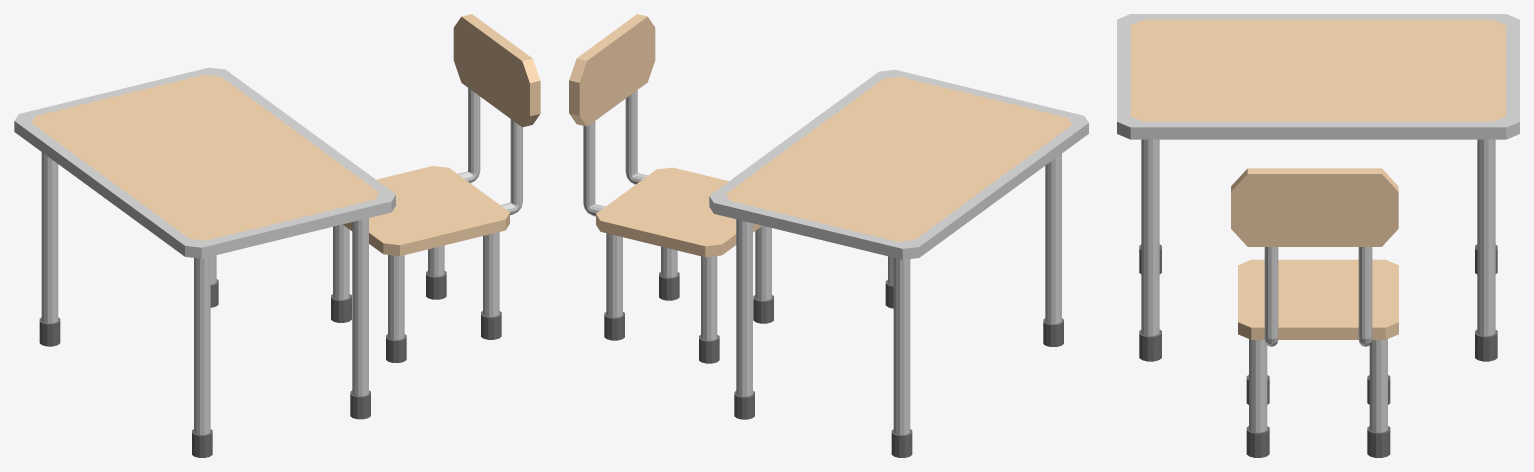
Rendered from classDesk.fbx.
3 renders of one model, left to right at view 1: azimuth 30°, elevation 25°; view 2: azimuth 150°, elevation 25°; view 3: azimuth 270°, elevation 25°, orthographic. The views are drawn at different scales.
Visible parts, largest first — view 1: classDesk, classChair; view 2: classDesk, classChair; view 3: classDesk, classChair.
Boxes of the visible parts, x1,y1,x2,y2 form: classDesk: (14, 67, 395, 457); classChair: (331, 14, 540, 362); classDesk: (709, 69, 1088, 457); classChair: (569, 14, 773, 363); classDesk: (1117, 14, 1519, 361); classChair: (1231, 168, 1398, 457).
Size of the model in its own units: 1900 by 1229 by 1500.
